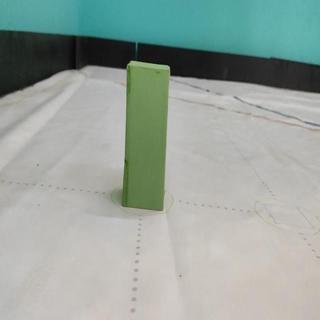greenbox: (121, 59, 170, 213)
